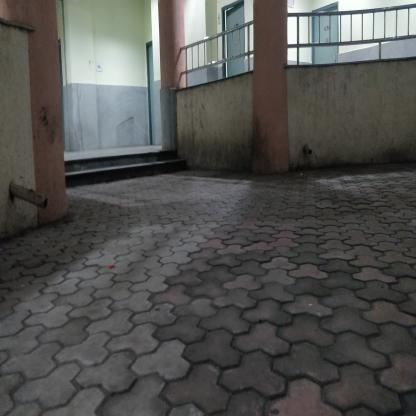stairs: (66, 152, 171, 185)
